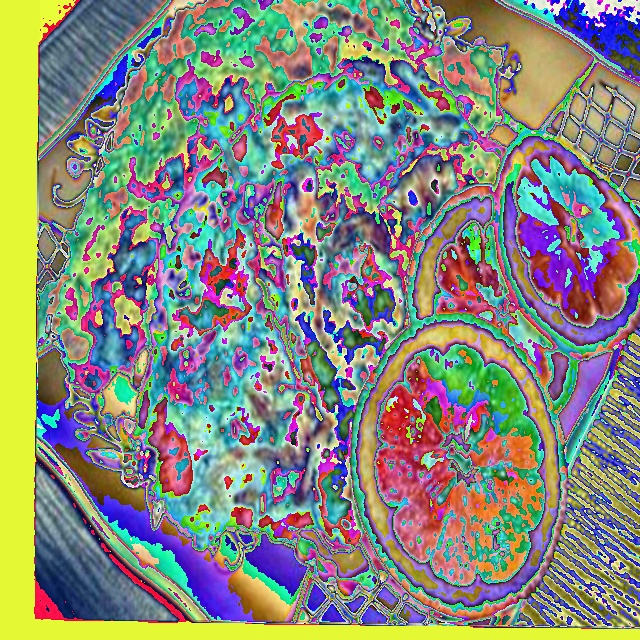background: (37, 0, 639, 621)
